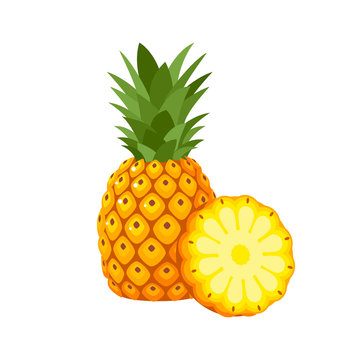Pineapple: (98, 41, 225, 300)
